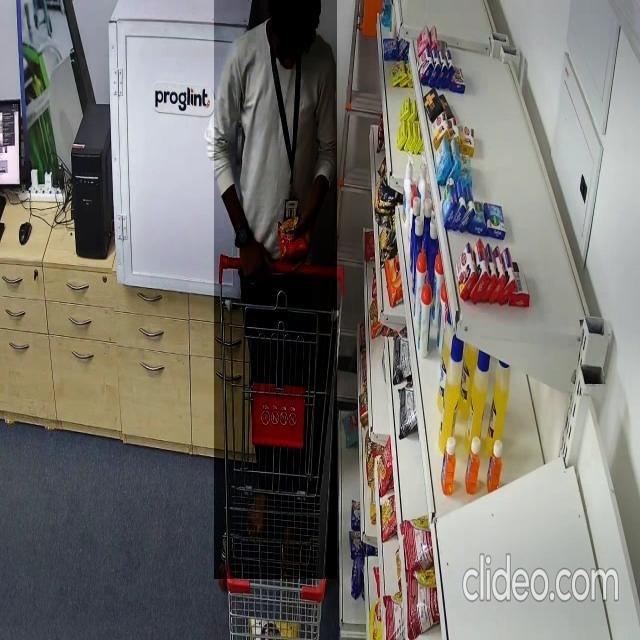normal: (214, 0, 337, 579)
